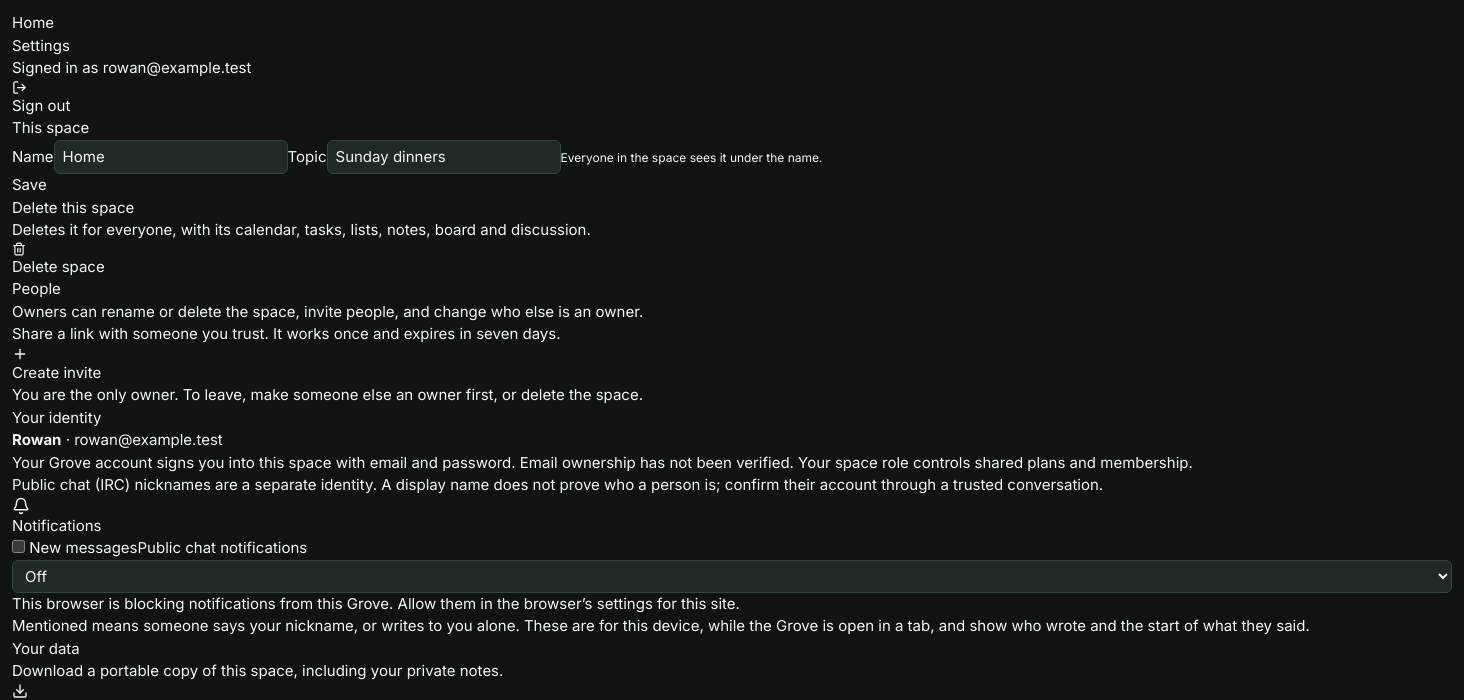
lets an owner rename the space and set its topic
Expected: the field labelled "Topic" holds "Sunday dinners", [326,140,560,174]
Replace the text in the field labelled "Name" with "Our house": (171, 157) [54,140,288,174]
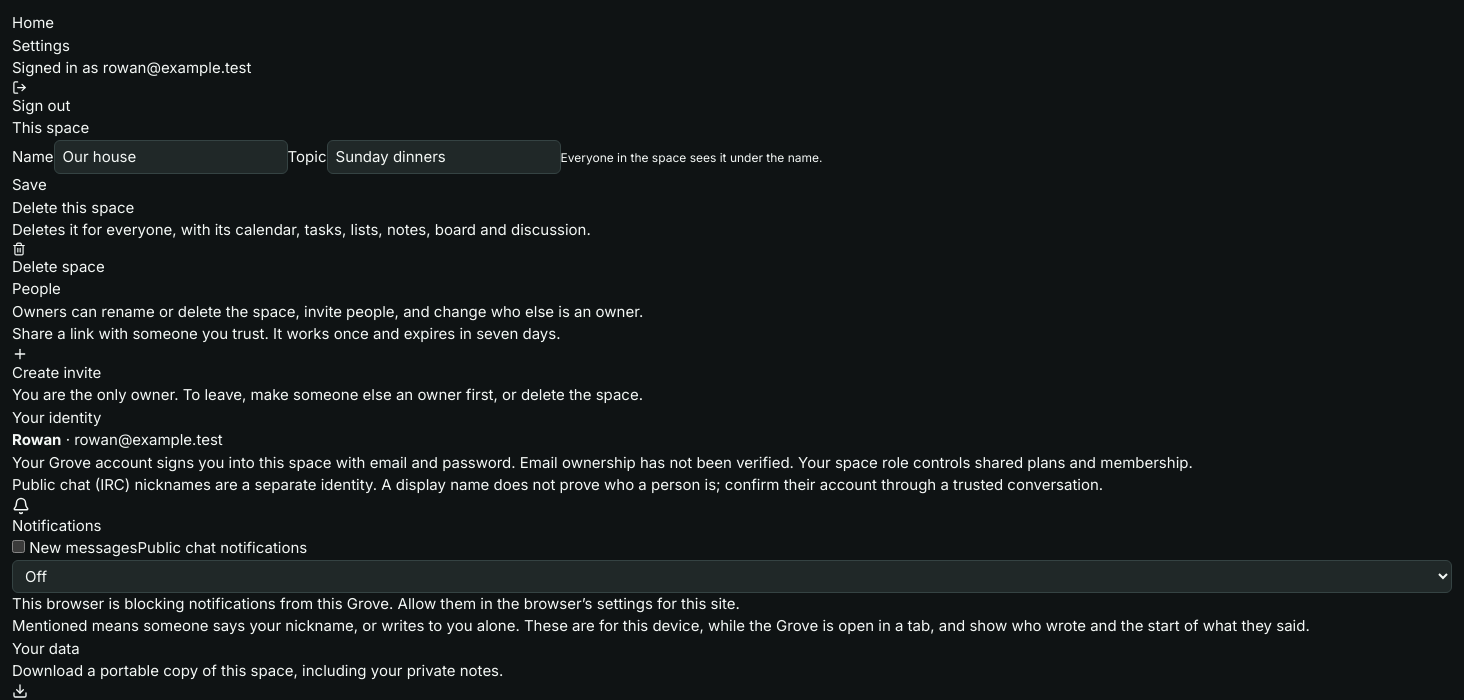
Replace the text in the field labelled "Topic" with "Back on Sundays": (444, 157) [326,140,560,174]
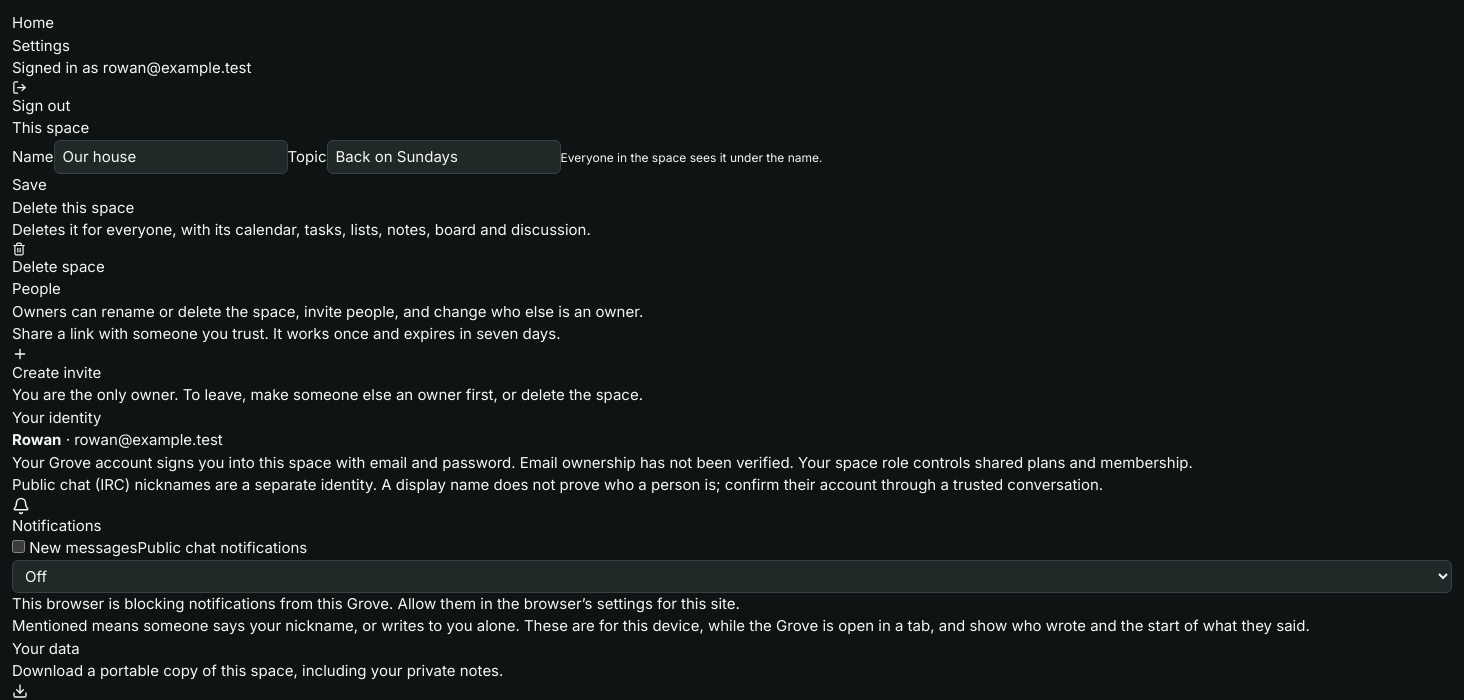
Click the button "Save": (29, 185) [12,174,47,196]
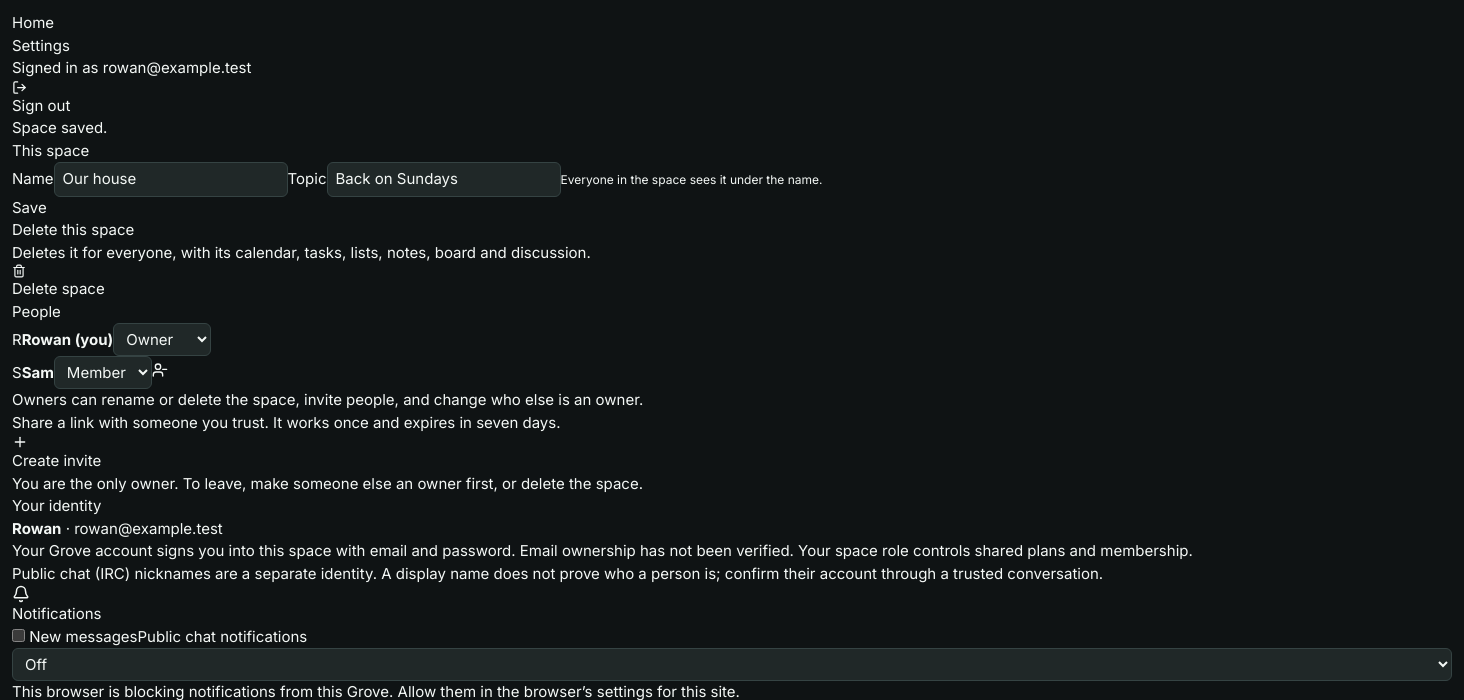
Now the text "Space saved." is shown, box [12,118,107,137]
